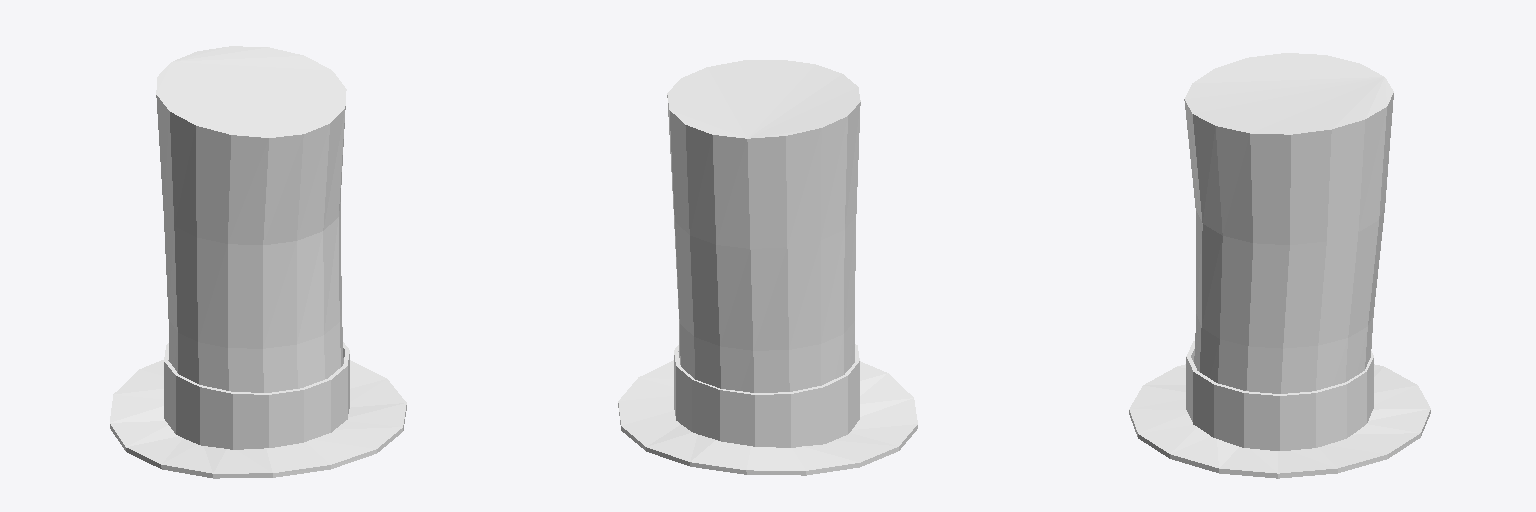
File: top_hat.obj
3 views of the same model, side by side, from view 1: azimuth 30°, elevation 25°; view 2: azimuth 150°, elevation 25°; view 3: azimuth 270°, elevation 25° (orthographic).
Visible parts, largest first — view 1: tophat_Circle; view 2: tophat_Circle; view 3: tophat_Circle.
Boxes of the visible parts, <box> form: tophat_Circle: <box>110,46,406,478</box>; tophat_Circle: <box>618,60,917,475</box>; tophat_Circle: <box>1129,53,1430,478</box>.
Size of the model in its own units: 0.8201 by 0.983 by 0.8218.